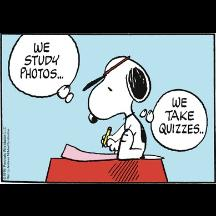snoopy: (82, 55, 164, 159)
